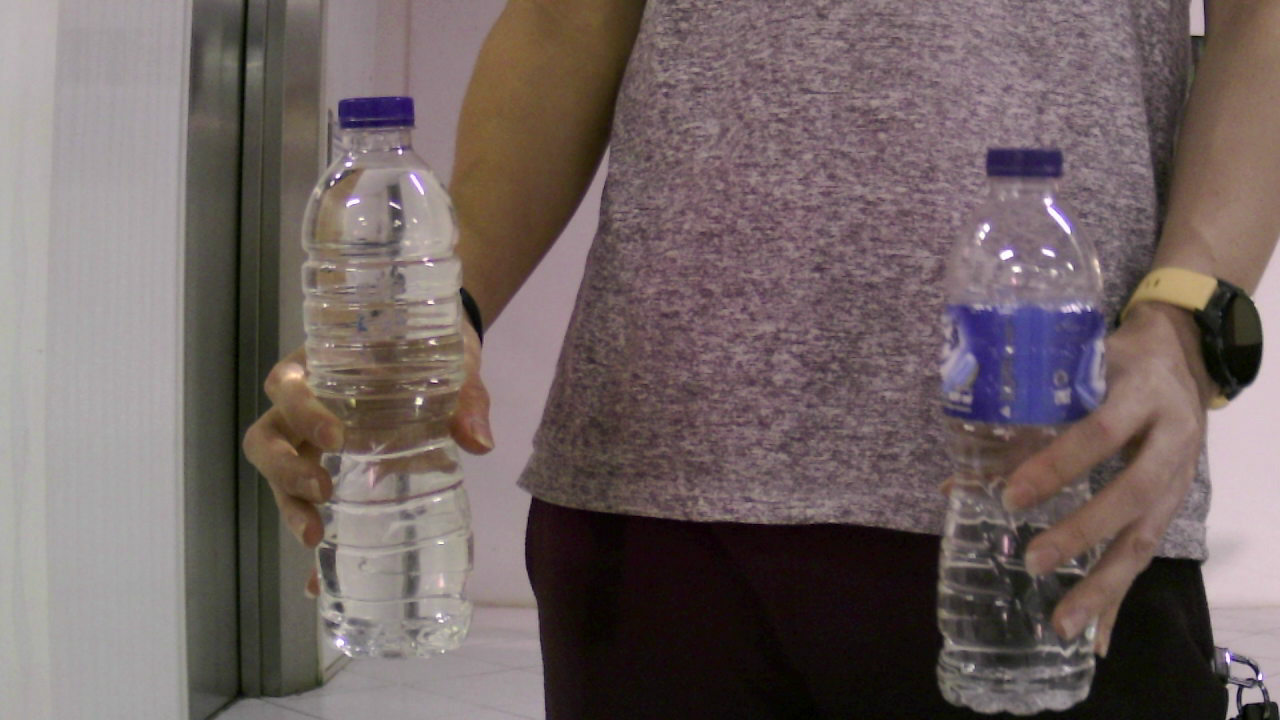Bottle: (301, 102, 485, 660), (946, 138, 1109, 709)
